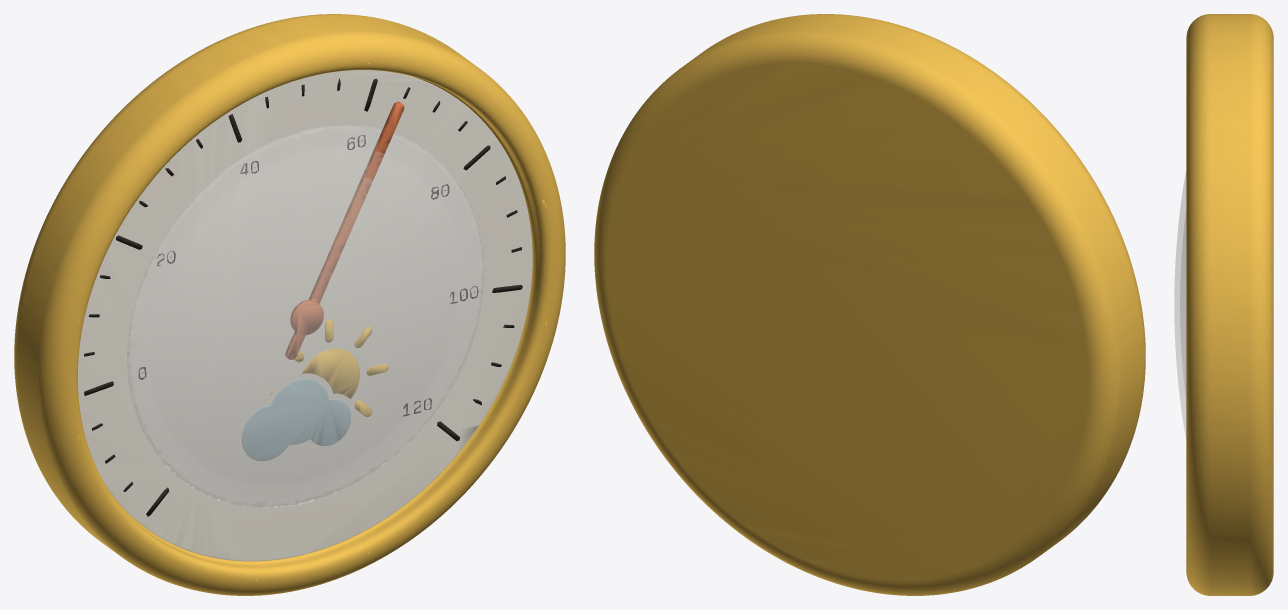
The model's file is weather-app.glb.
3 views of the same model, side by side, from view 1: azimuth 30°, elevation 25°; view 2: azimuth 150°, elevation 25°; view 3: azimuth 270°, elevation 25° (orthographic). The views are drawn at different scales.
Parts seen in each view (by area): view 1: wa-face, wa-glass, wa-case; view 2: wa-case; view 3: wa-case, wa-glass.
Boxes of the visible parts, x1,y1,x2,y2 form: wa-face: [78, 70, 532, 561]; wa-glass: [127, 125, 483, 507]; wa-case: [14, 14, 565, 595]; wa-case: [594, 14, 1145, 595]; wa-case: [1186, 14, 1273, 595]; wa-glass: [1174, 173, 1186, 436].
Bounding box in the file's own units: 0.12 × 0.12 × 0.0205.
Materials: 3 (3 with a texture image).
